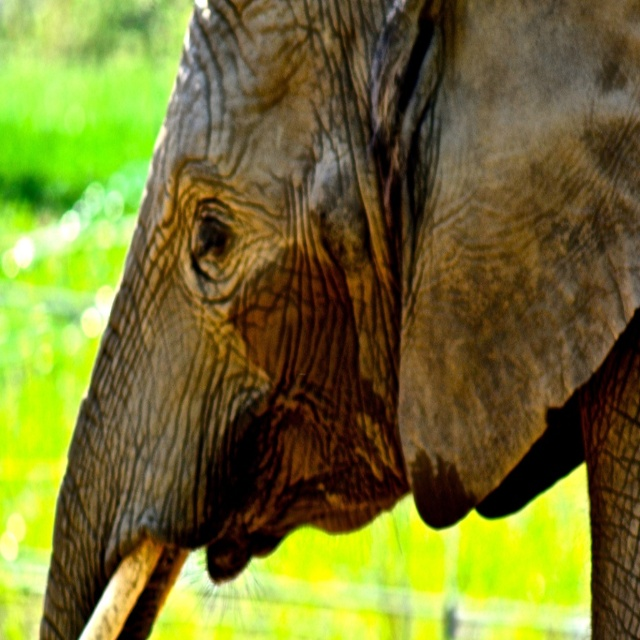Elephant: (18, 0, 637, 639)
